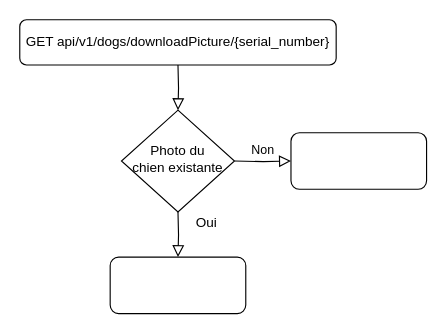
This 446x333 diagram has some shape labels left out. Each missing label, with the box of its shape:
200 OK Avec résultat en JSON: (109, 256, 246, 314)
404 Not Found: (290, 132, 427, 189)
